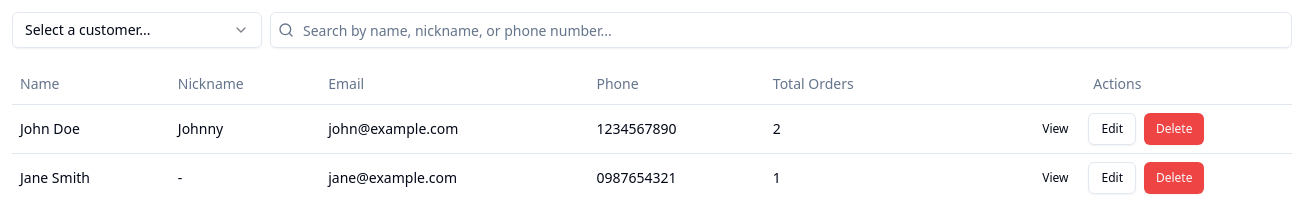
it: CustomerTable › filters customers by phone
In the field with placeholder "Search by name, nickname, or phone number...": (781, 30) x1=270 y1=12 x2=1292 y2=48, type "1234"
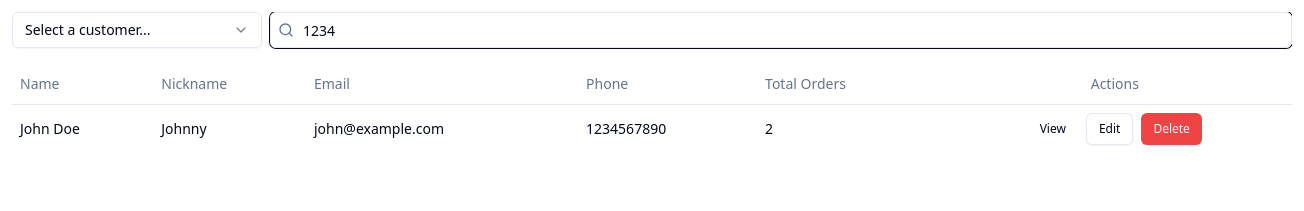
Expected: the text "John Doe" is shown, x1=12 y1=104 x2=153 y2=152
Result: the text "Jane Smith" is gone
